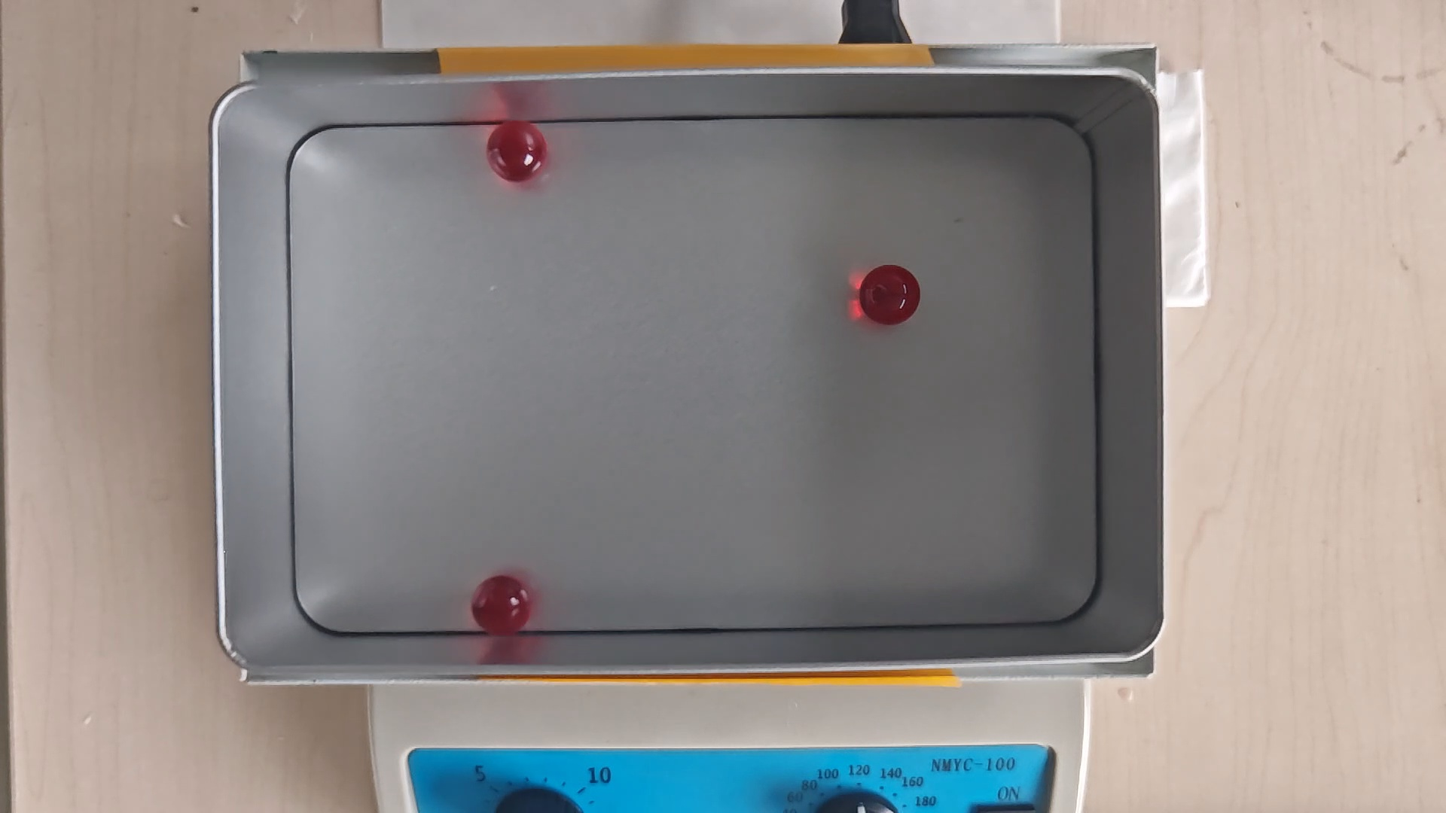ball: (484, 120, 547, 184), (469, 577, 532, 637), (861, 265, 920, 327)
container: (284, 121, 1098, 628)
